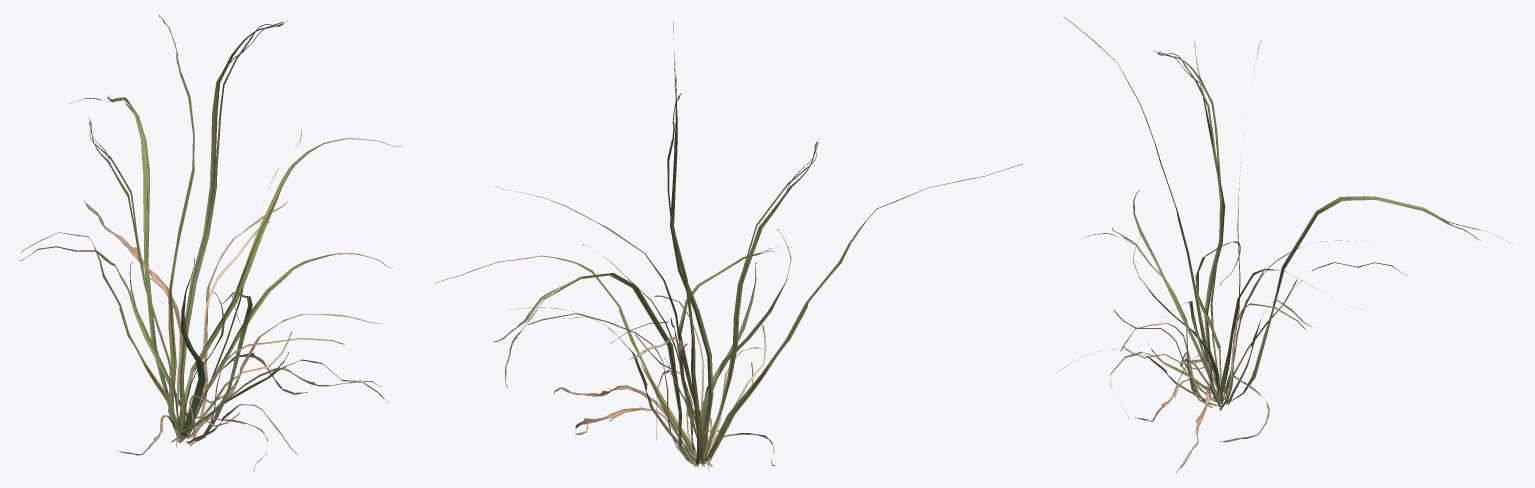
The model's file is grass_medium_02_c.glb.
3 views of the same model, side by side, from view 1: azimuth 30°, elevation 25°; view 2: azimuth 150°, elevation 25°; view 3: azimuth 270°, elevation 25° (orthographic). The views are drawn at different scales.
Visible parts, largest first — view 1: grass_medium_02_c__lod0; view 2: grass_medium_02_c__lod0; view 3: grass_medium_02_c__lod0.
Part boxes in pixels (x1,y1,x2,y2): grass_medium_02_c__lod0: [19, 15, 402, 471]; grass_medium_02_c__lod0: [435, 21, 1022, 471]; grass_medium_02_c__lod0: [1060, 17, 1512, 472].
Bounding box in the file's own units: 0.2617 × 0.2317 × 0.2495.
1 material, 1 textured.
